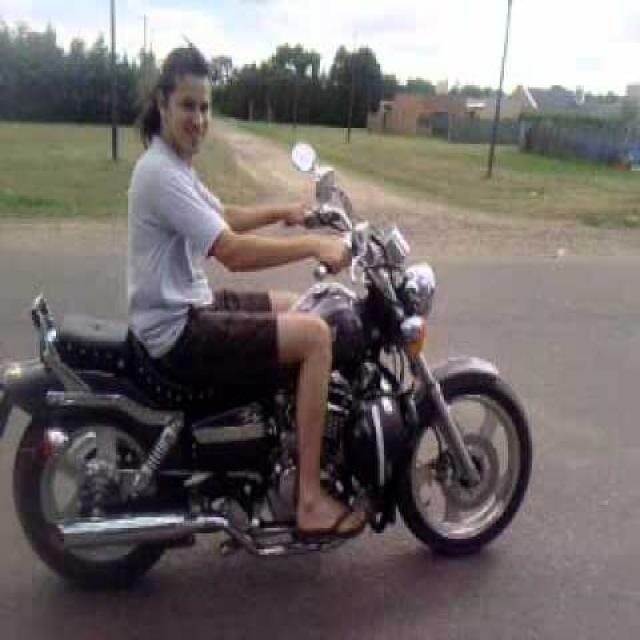Not Wearing Helmet: (133, 58, 232, 250)
